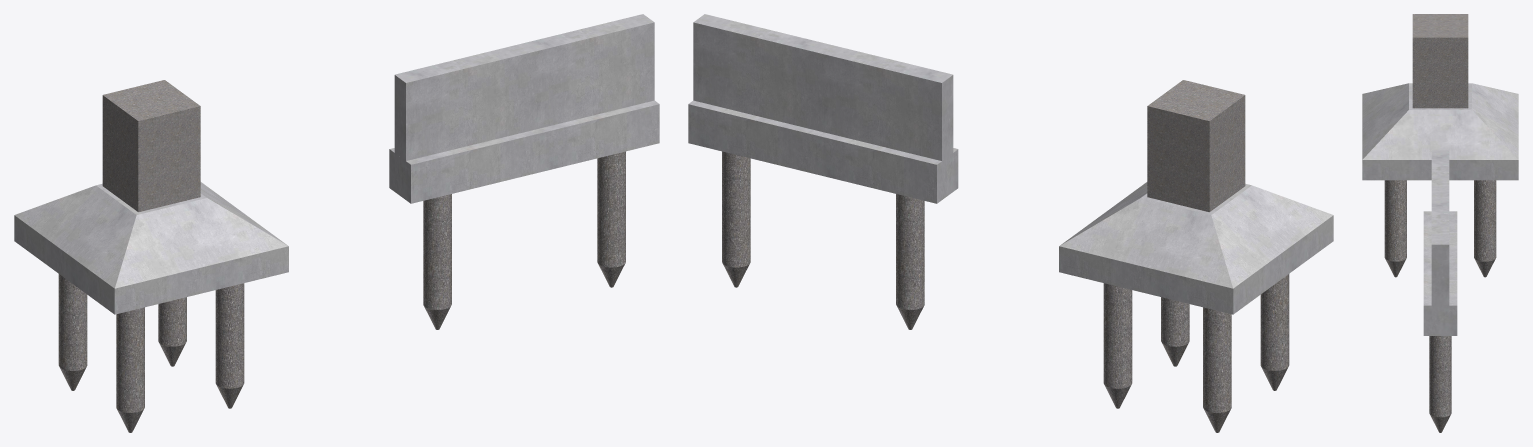
Rendered from pile-foundation-composition.glb.
3 views of the same model, side by side, from view 1: azimuth 30°, elevation 25°; view 2: azimuth 150°, elevation 25°; view 3: azimuth 270°, elevation 25° (orthographic). The views are drawn at different scales.
Parts seen in each view (by area): view 1: 墙体, 斜顶承台板, 桩, 墙下承台梁, 柱; view 2: 墙体, 斜顶承台板, 桩, 墙下承台梁, 柱; view 3: 斜顶承台板, 桩, 柱, 墙体, 墙下承台梁.
Part boxes in pixels (x1=…): 墙体: x1=394, y1=14, x2=654, y2=160; 斜顶承台板: x1=14, y1=182, x2=288, y2=314; 桩: x1=58, y1=151, x2=625, y2=432; 墙下承台梁: x1=389, y1=100, x2=659, y2=203; 柱: x1=102, y1=80, x2=200, y2=212; 墙体: x1=693, y1=14, x2=953, y2=160; 斜顶承台板: x1=1059, y1=182, x2=1333, y2=314; 桩: x1=722, y1=151, x2=1289, y2=432; 墙下承台梁: x1=688, y1=100, x2=958, y2=203; 柱: x1=1147, y1=80, x2=1245, y2=212; 斜顶承台板: x1=1362, y1=83, x2=1518, y2=180; 桩: x1=1384, y1=180, x2=1496, y2=432; 柱: x1=1412, y1=14, x2=1468, y2=108; 墙体: x1=1431, y1=150, x2=1449, y2=305; 墙下承台梁: x1=1423, y1=211, x2=1457, y2=335.
Size of the model in its own units: 7.05 by 3.45 by 2.1.
Materials: 5 (5 with a texture image).
